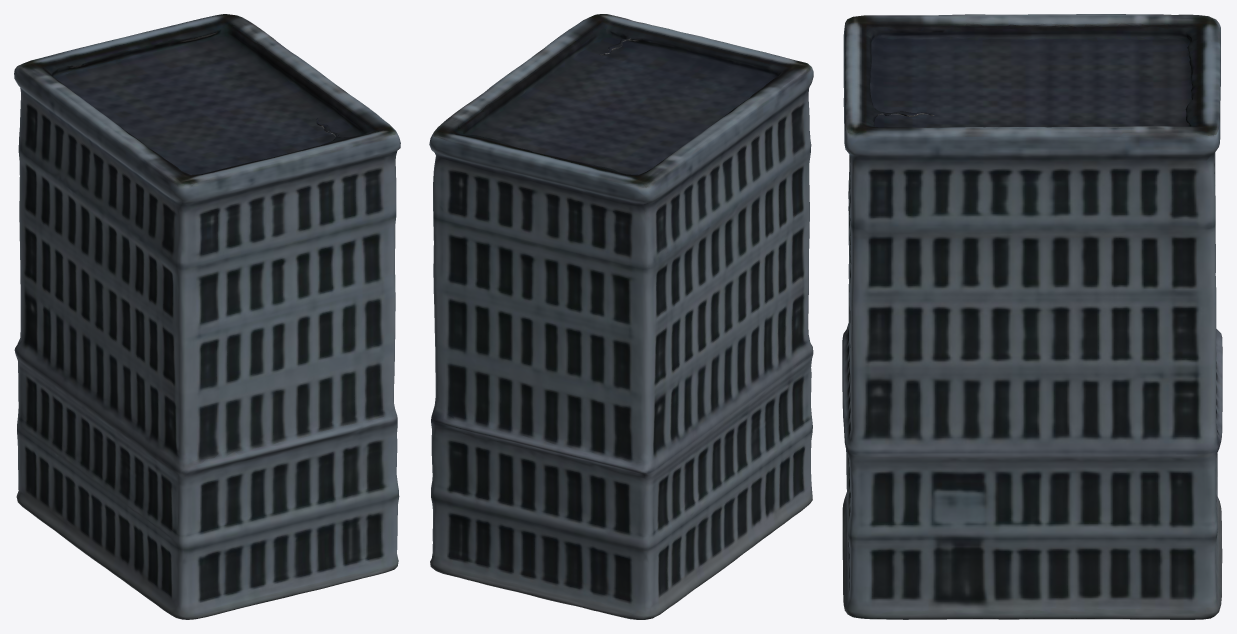
File: 3aef5d231b90_78d1a580c861_noire__rectangular_.glb
3 renders of one model, left to right at view 1: azimuth 30°, elevation 25°; view 2: azimuth 150°, elevation 25°; view 3: azimuth 270°, elevation 25°, orthographic. The views are drawn at different scales.
Visible parts, largest first — view 1: high_poly; view 2: high_poly; view 3: high_poly.
Part boxes in pixels (bbox=[...]): high_poly: bbox=[14, 14, 400, 619]; high_poly: bbox=[429, 14, 813, 619]; high_poly: bbox=[842, 14, 1222, 619].
Bounding box in the file's own units: 0.5418 × 1 × 0.706.
1 material, 1 textured.
